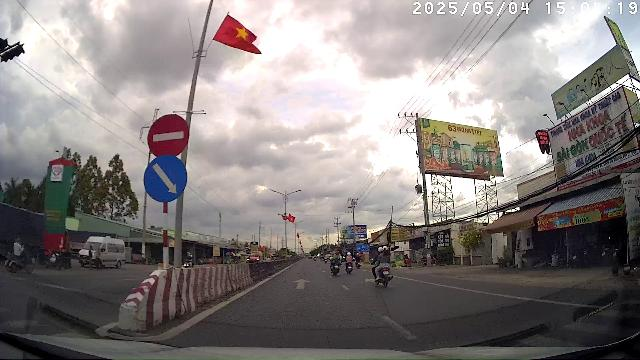102-cam-di-nguoc-chieu: (147, 113, 190, 155)
302a-huong-phai-di-vong-chuong-ngai-vat-1: (144, 157, 188, 201)
